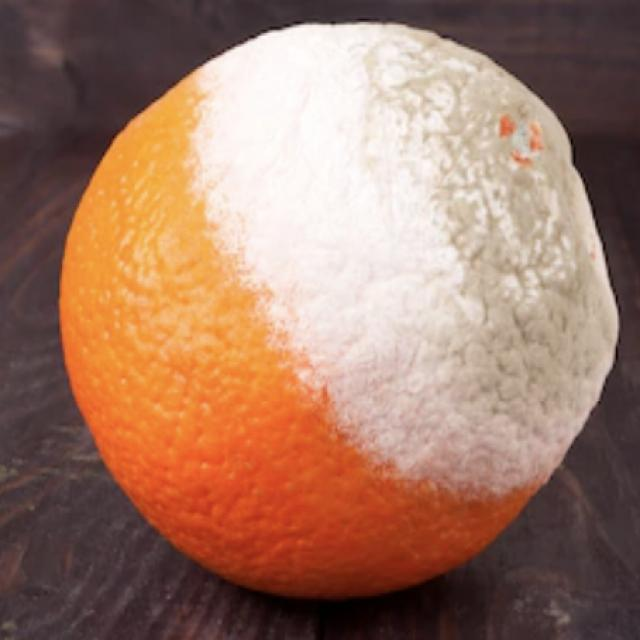rotten-orange: (62, 22, 618, 598)
